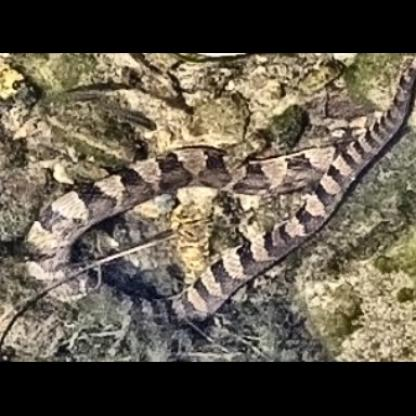Snake: (10, 67, 415, 340)
